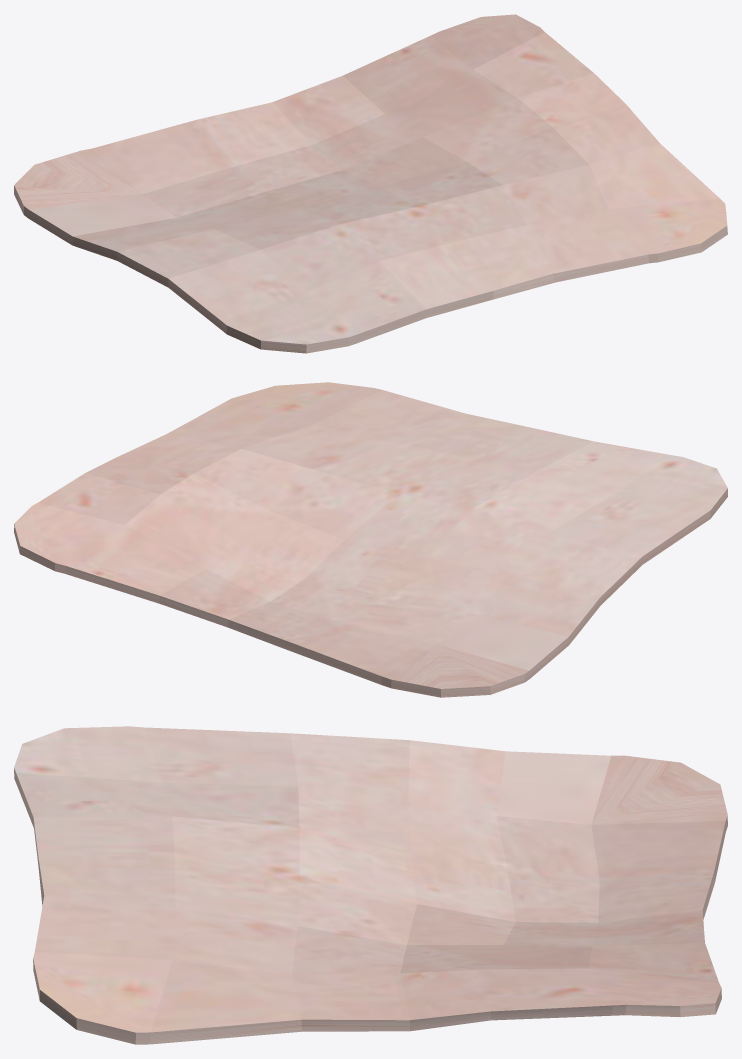
The model's file is Chicken_Ham.fbx.
The picture shows the model from 3 angles, top to bottom: view 1: azimuth 30°, elevation 25°; view 2: azimuth 150°, elevation 25°; view 3: azimuth 270°, elevation 25°; orthographic projection. The views are drawn at different scales.
Parts seen in each view (by area): view 1: Cube; view 2: Cube; view 3: Cube.
Part boxes in pixels (box(x1,y1,x2,y2)): Cube: box(14, 14, 727, 353); Cube: box(14, 382, 727, 697); Cube: box(14, 726, 727, 1044).
Size of the model in its own units: 166 by 19.98 by 160.
1 material, 1 textured.
